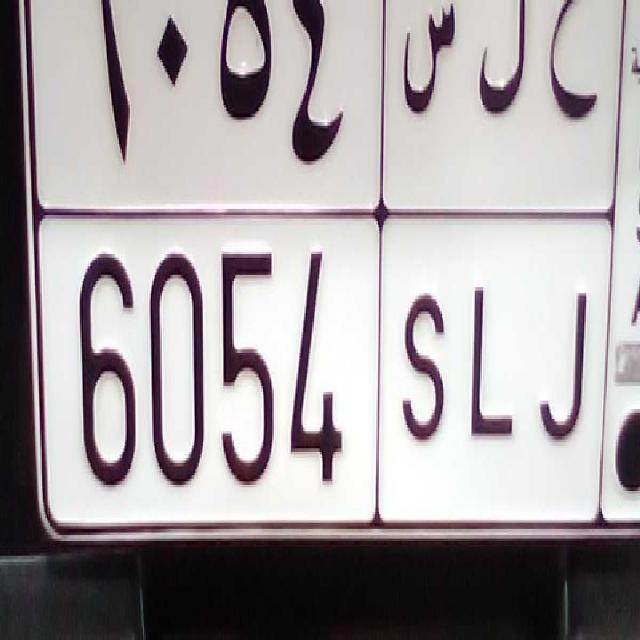license_plate: (32, 206, 607, 529)
